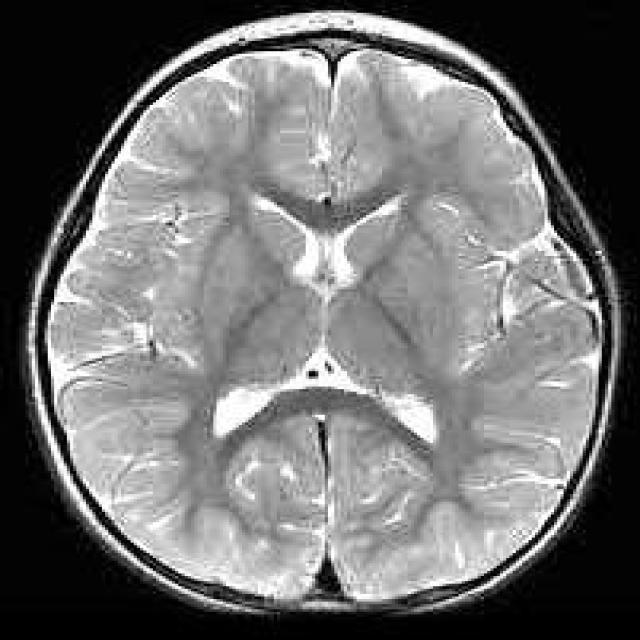No_Tumor: (29, 12, 619, 612)
